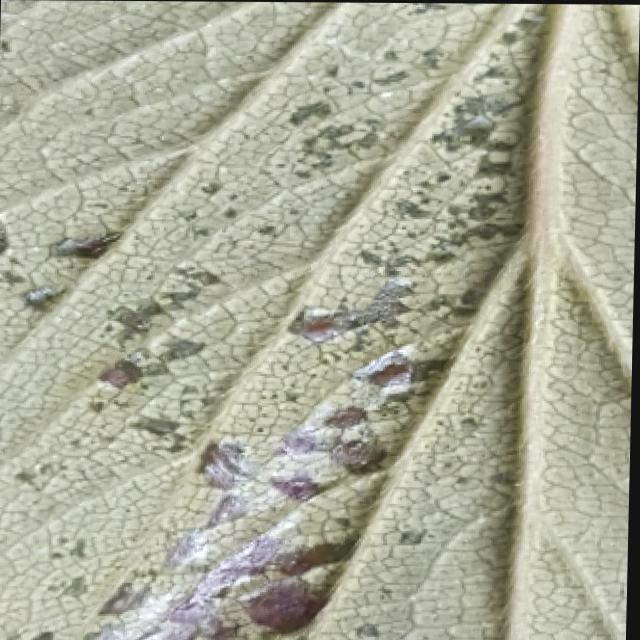Angular Leafspot: (0, 0, 569, 640)
